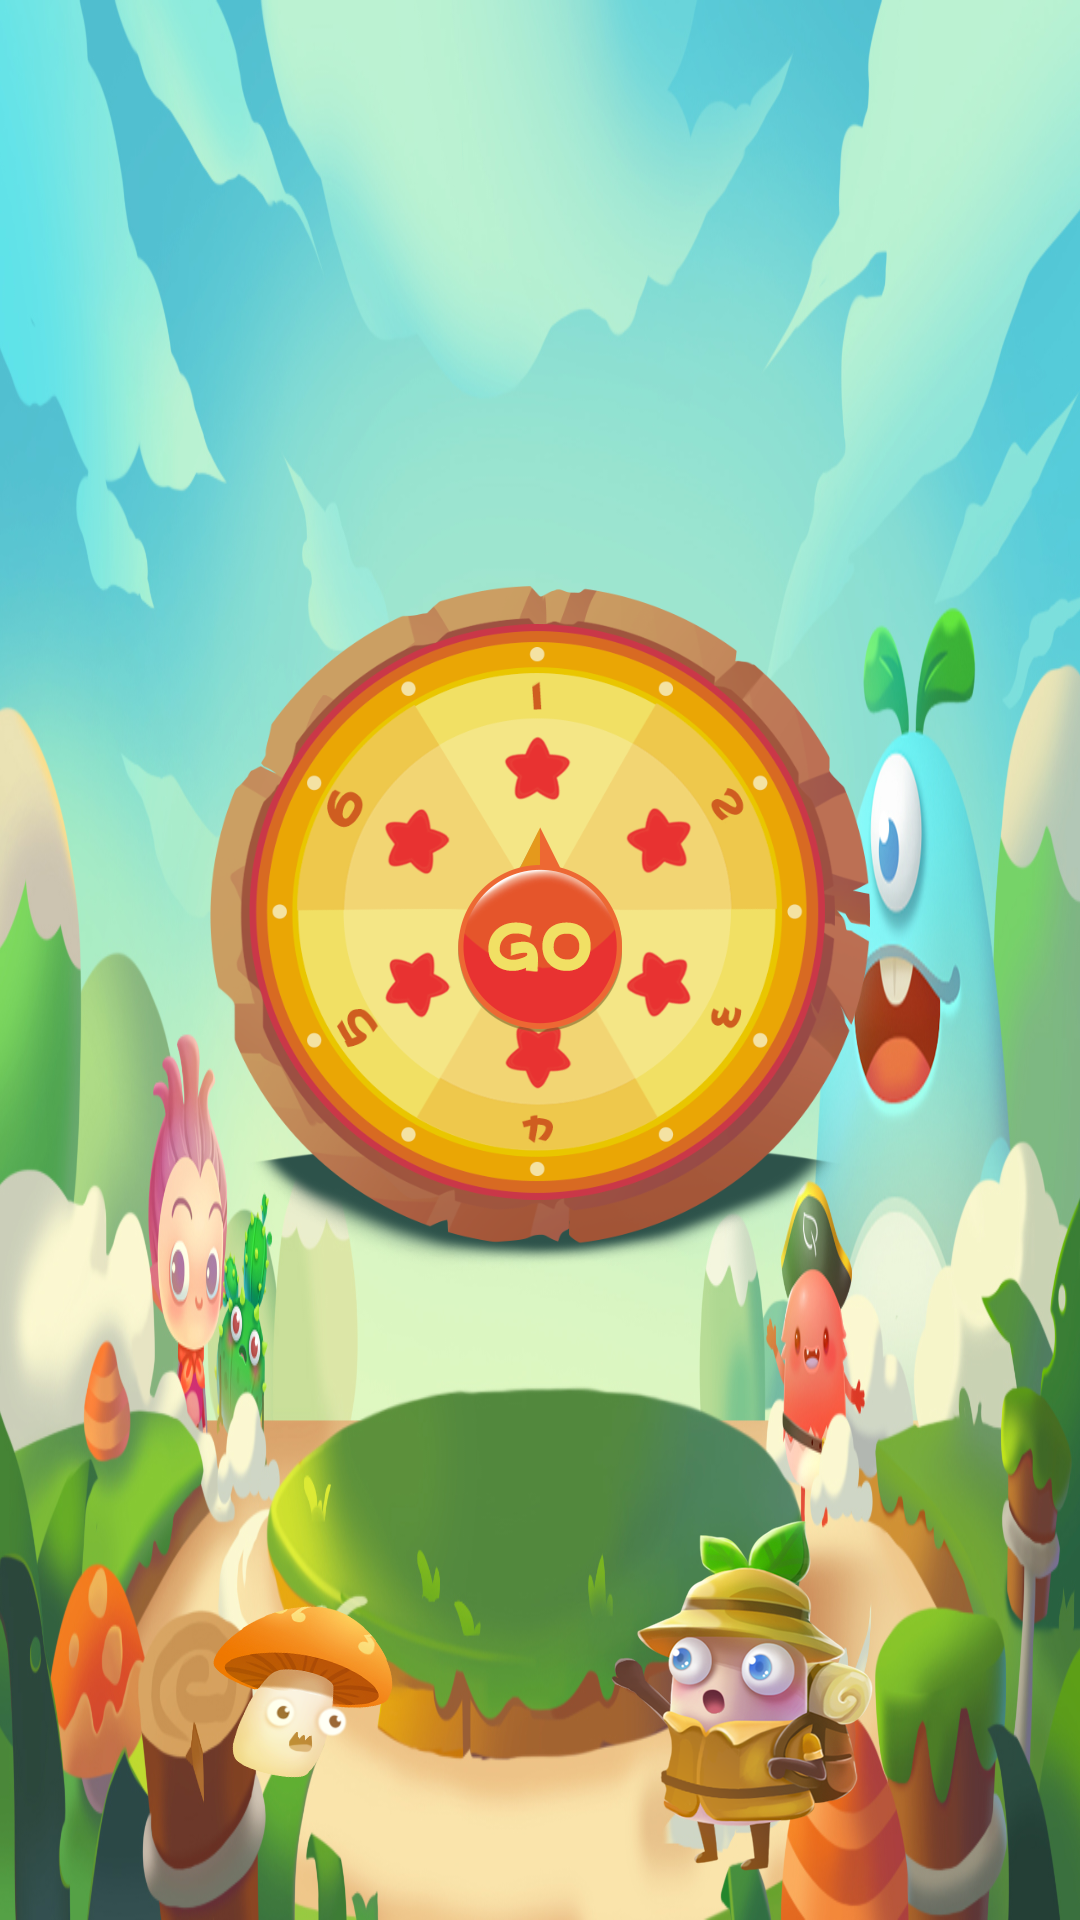

Screen size 1080w x 1920h. Icon name, then its center in pixels as (x,y):
luck pan mogu: (308,1696)
